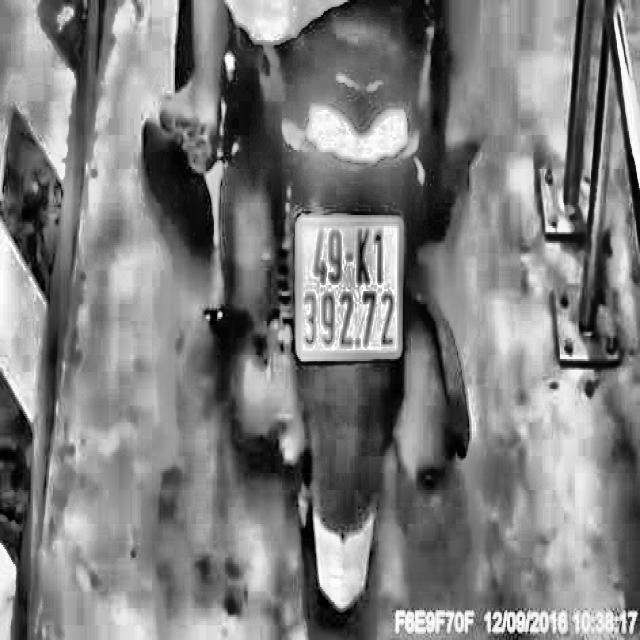plate: (292, 209, 406, 364)
